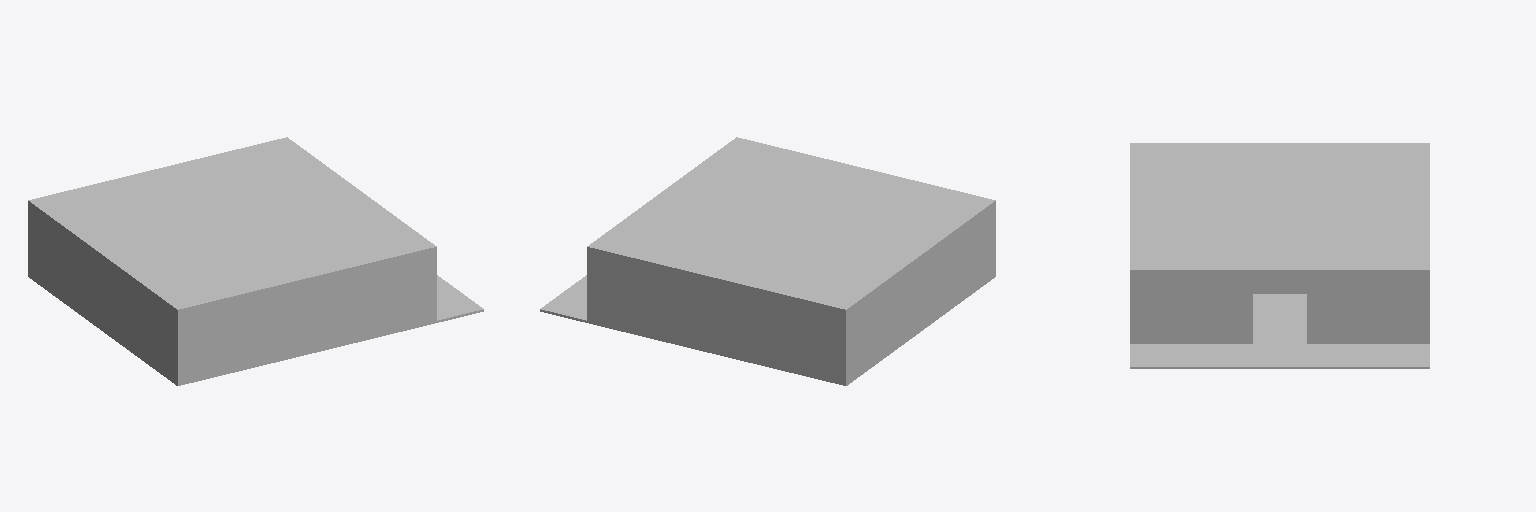
The model's file is museo.obj.
3 renders of one model, left to right at view 1: azimuth 30°, elevation 25°; view 2: azimuth 150°, elevation 25°; view 3: azimuth 270°, elevation 25°, orthographic.
Visible parts, largest first — view 1: Roof, Wall Sx, Wall Back, Floor; view 2: Roof, Wall Dx, Wall Back, Floor; view 3: Roof, Floor, Wall Front Sx, Wall Front Dx, Wall Dx, Wall Sx, Wall Front Up.
Boxes of the visible parts, x1=… form: Roof: x1=28, y1=137, x2=436, y2=321; Wall Sx: x1=171, y1=259, x2=436, y2=383; Wall Back: x1=35, y1=218, x2=170, y2=378; Floor: x1=28, y1=275, x2=483, y2=385; Roof: x1=587, y1=137, x2=995, y2=321; Wall Dx: x1=587, y1=259, x2=852, y2=383; Wall Back: x1=853, y1=218, x2=988, y2=378; Floor: x1=540, y1=275, x2=995, y2=385; Roof: x1=1130, y1=143, x2=1429, y2=281; Floor: x1=1130, y1=294, x2=1429, y2=368; Wall Front Sx: x1=1144, y1=282, x2=1252, y2=343; Wall Front Dx: x1=1307, y1=282, x2=1415, y2=343; Wall Dx: x1=1416, y1=282, x2=1429, y2=343; Wall Sx: x1=1130, y1=282, x2=1143, y2=343; Wall Front Up: x1=1253, y1=282, x2=1306, y2=293.
Size of the model in its own units: 26 by 6.2 by 22.